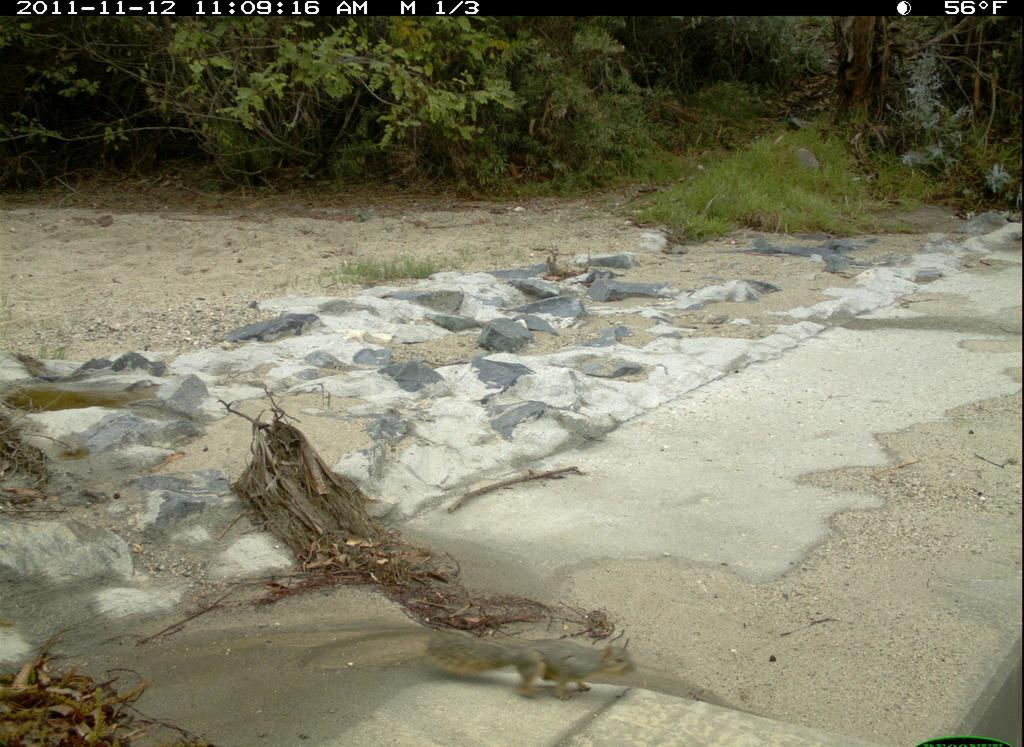squirrel: (422, 625, 641, 703)
